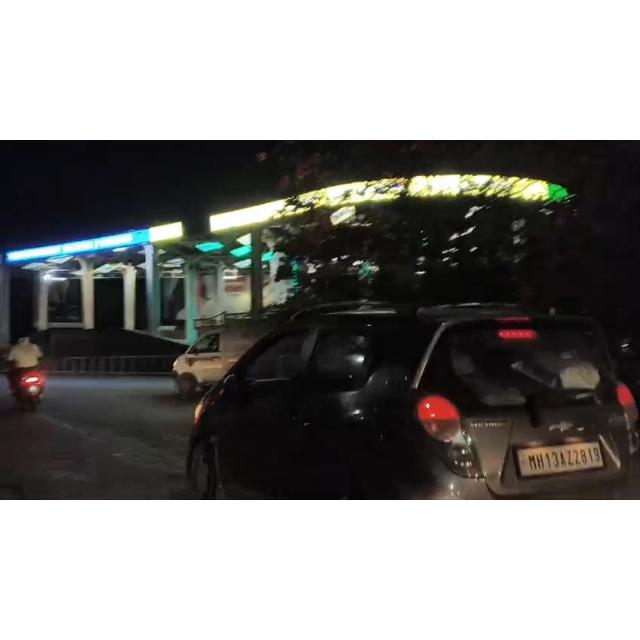car: (178, 285, 640, 501)
